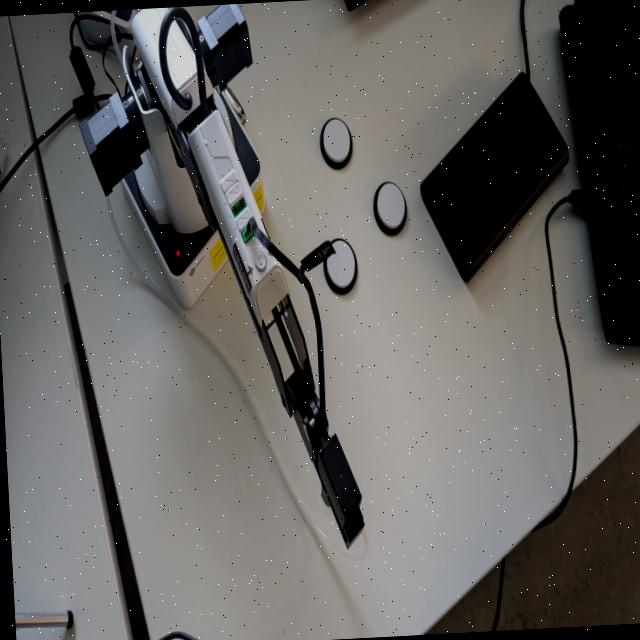Robot-end-effector-HF8z: (311, 428, 368, 554)
